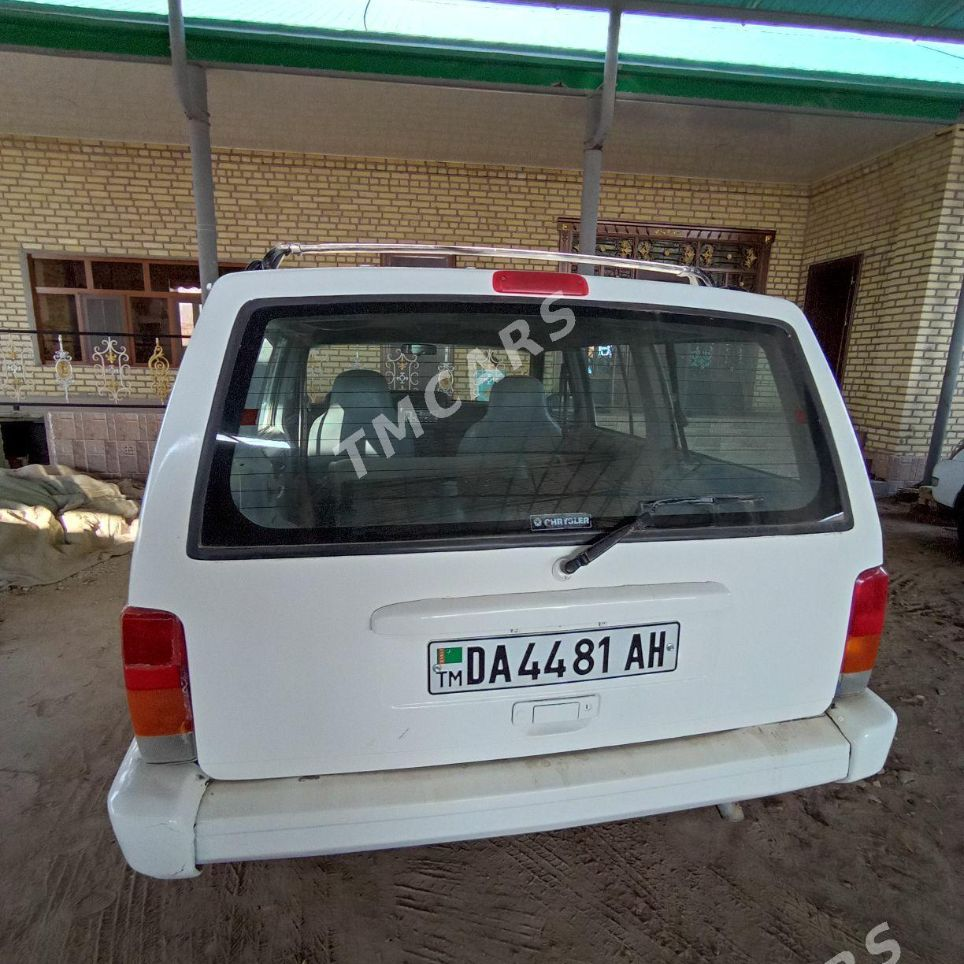license plate: (427, 623, 683, 698)
truck: (130, 254, 889, 859)
